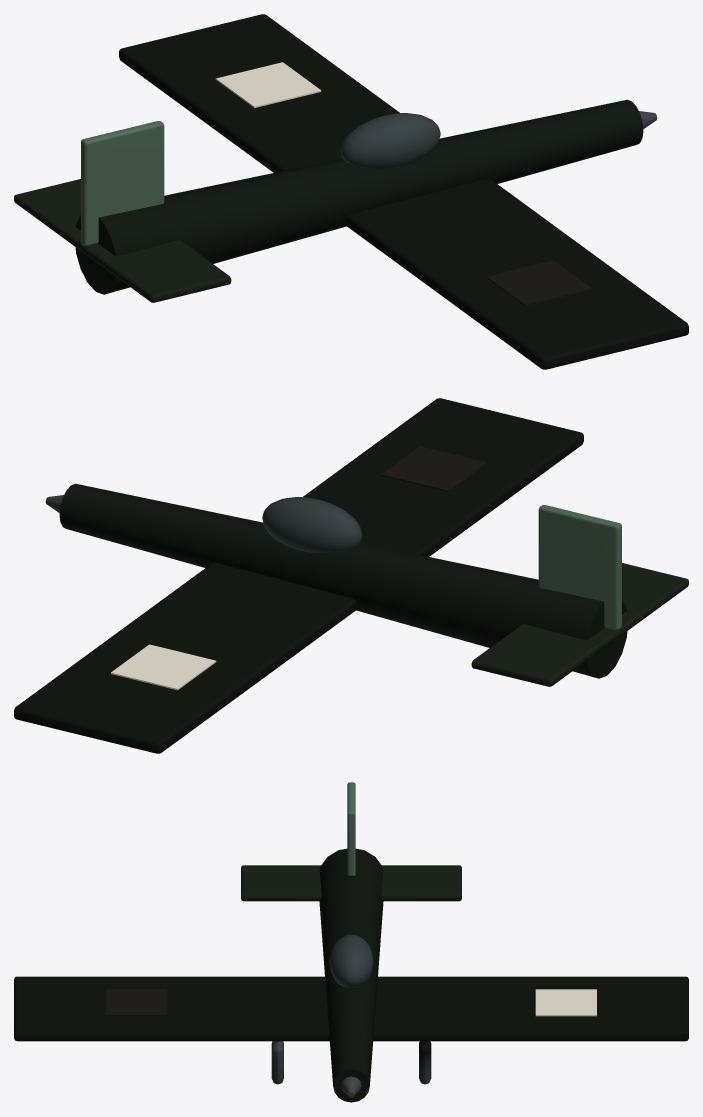
The picture shows the model from 3 angles, top to bottom: view 1: azimuth 30°, elevation 25°; view 2: azimuth 150°, elevation 25°; view 3: azimuth 270°, elevation 25°; orthographic projection. The views are drawn at different scales.
Visible parts, largest first — view 1: anim-fighter-wing, anim-fighter-fus, anim-fighter-tail, anim-fighter-fin, anim-fighter-canopy, anim-fighter-roundel0, anim-fighter-roundel1; view 2: anim-fighter-wing, anim-fighter-fus, anim-fighter-tail, anim-fighter-fin, anim-fighter-canopy, anim-fighter-roundel0, anim-fighter-roundel1; view 3: anim-fighter-wing, anim-fighter-fus, anim-fighter-tail, anim-fighter-canopy, anim-fighter-roundel0, anim-fighter-roundel1, anim-fighter-fin, anim-fighter-wheel0, anim-fighter-wheel1.
Part boxes in pixels (bbox=[...]): anim-fighter-wing: bbox=[119, 14, 688, 369]; anim-fighter-fus: bbox=[75, 99, 643, 294]; anim-fighter-tail: bbox=[14, 179, 231, 302]; anim-fighter-fin: bbox=[81, 121, 164, 245]; anim-fighter-canopy: bbox=[340, 113, 440, 169]; anim-fighter-roundel0: bbox=[215, 62, 321, 107]; anim-fighter-roundel1: bbox=[486, 260, 592, 306]; anim-fighter-wing: bbox=[14, 398, 583, 753]; anim-fighter-fus: bbox=[59, 483, 627, 678]; anim-fighter-tail: bbox=[471, 563, 688, 686]; anim-fighter-fin: bbox=[538, 505, 621, 629]; anim-fighter-canopy: bbox=[262, 497, 362, 553]; anim-fighter-roundel0: bbox=[110, 644, 216, 690]; anim-fighter-roundel1: bbox=[381, 446, 487, 491]; anim-fighter-wing: bbox=[14, 976, 688, 1041]; anim-fighter-fus: bbox=[319, 848, 383, 1102]; anim-fighter-tail: bbox=[241, 865, 461, 901]; anim-fighter-canopy: bbox=[329, 934, 373, 987]; anim-fighter-roundel0: bbox=[535, 989, 596, 1016]; anim-fighter-roundel1: bbox=[106, 989, 167, 1016]; anim-fighter-fin: bbox=[347, 782, 355, 875]; anim-fighter-wheel0: bbox=[419, 1041, 431, 1084]; anim-fighter-wheel1: bbox=[271, 1041, 283, 1084].
Size of the model in its own units: 8.55 by 2.95 by 11.
